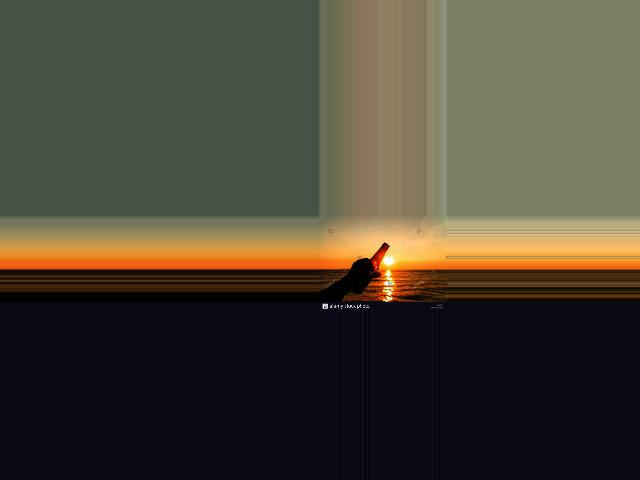beer: (350, 242, 389, 294)
